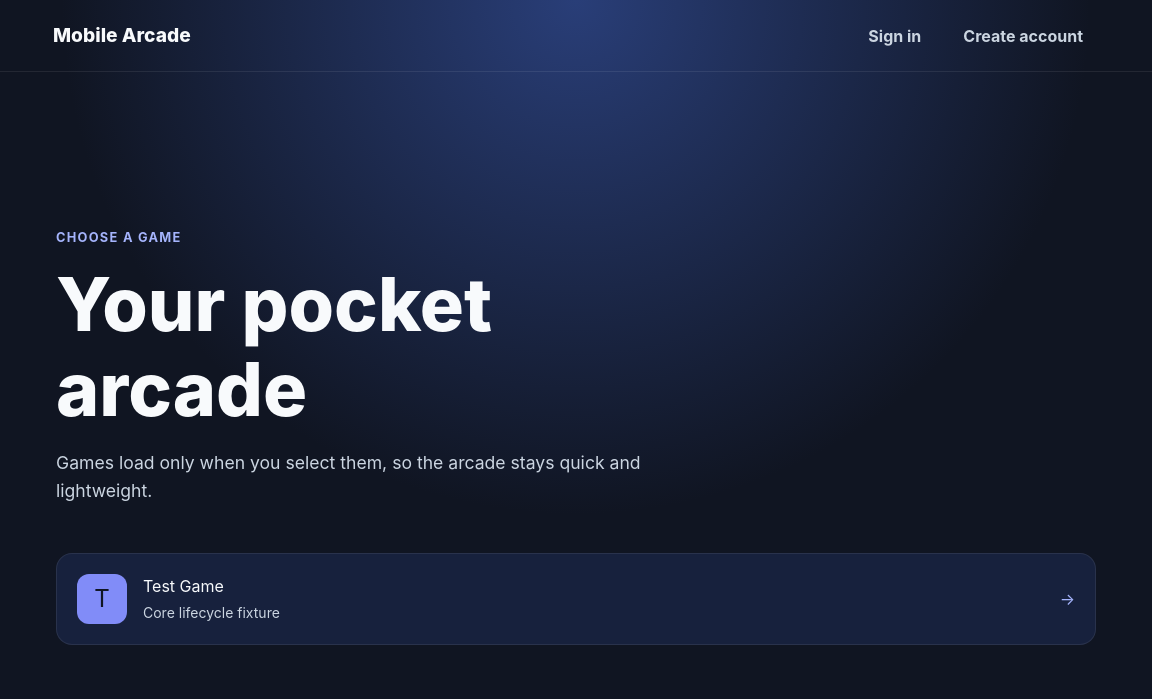
Test: ArcadeApp logout behavior › keeps authenticated UI available when logout fails
Click the button "Sign in": (895, 36) 851,14 -> 938,58
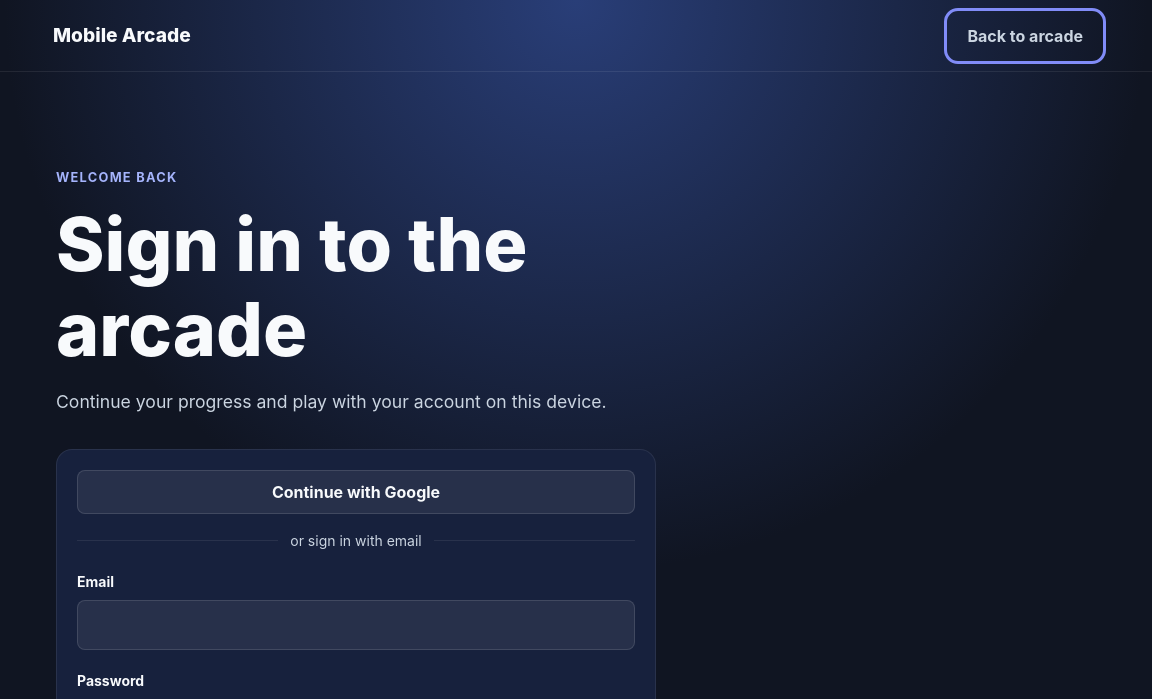
In the field labelled "Email": (356, 625) 77,600 -> 635,650, type "player@example.com"
(page scrolled)
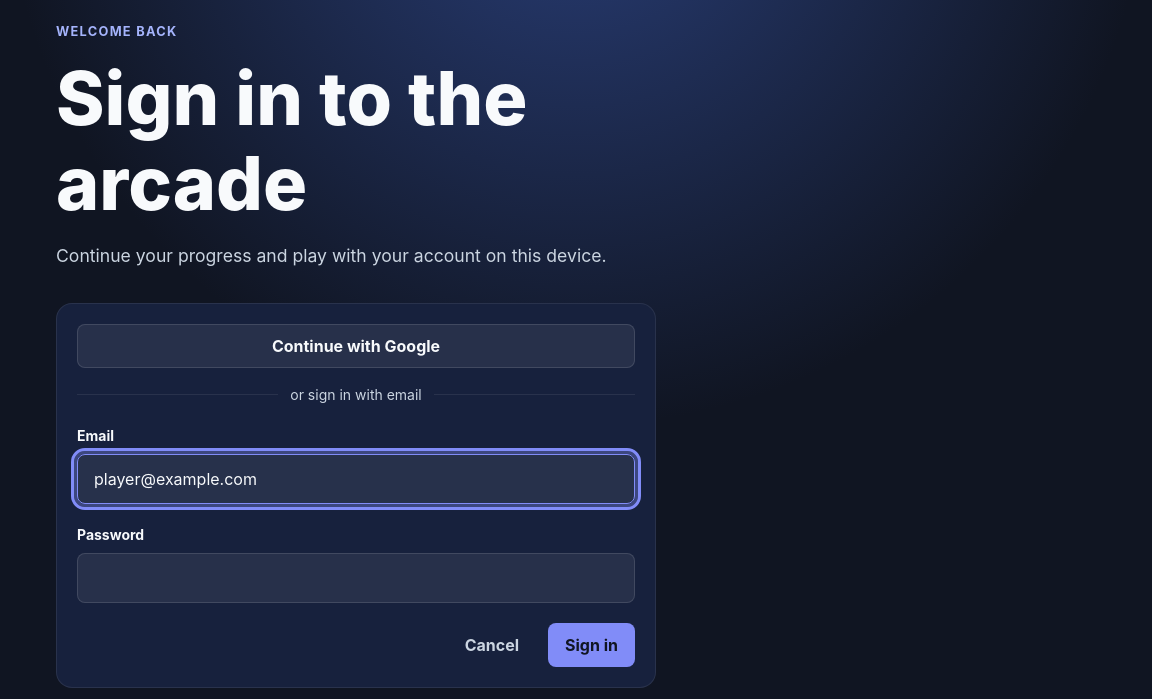
In the password field labelled "Password": (356, 578) 77,553 -> 635,603, type "safe-password"
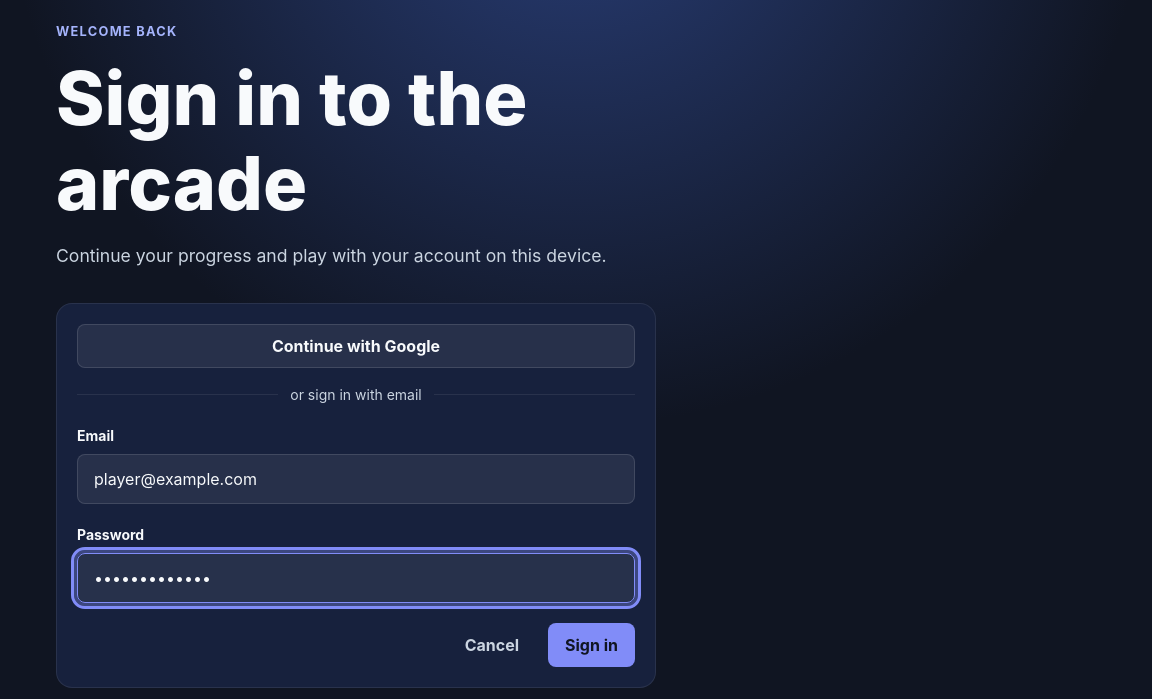
Click the button "Sign in": (592, 645) 548,623 -> 635,667
(page scrolled)
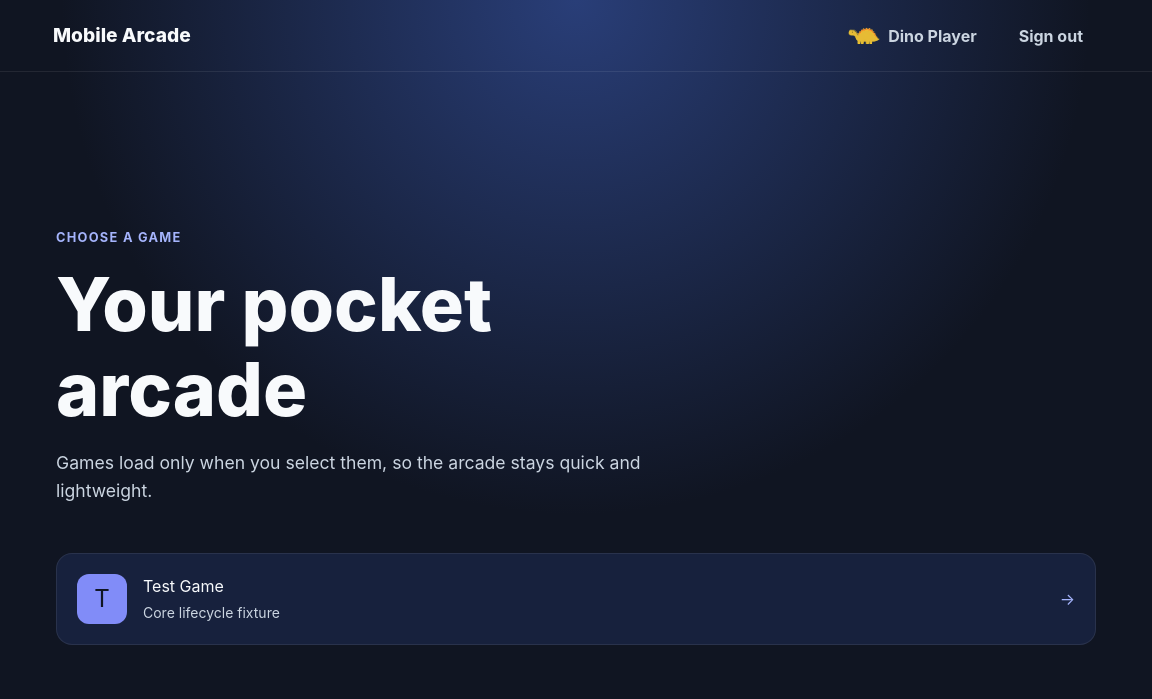
Click the button "Sign out": (1051, 36) 1002,14 -> 1100,58
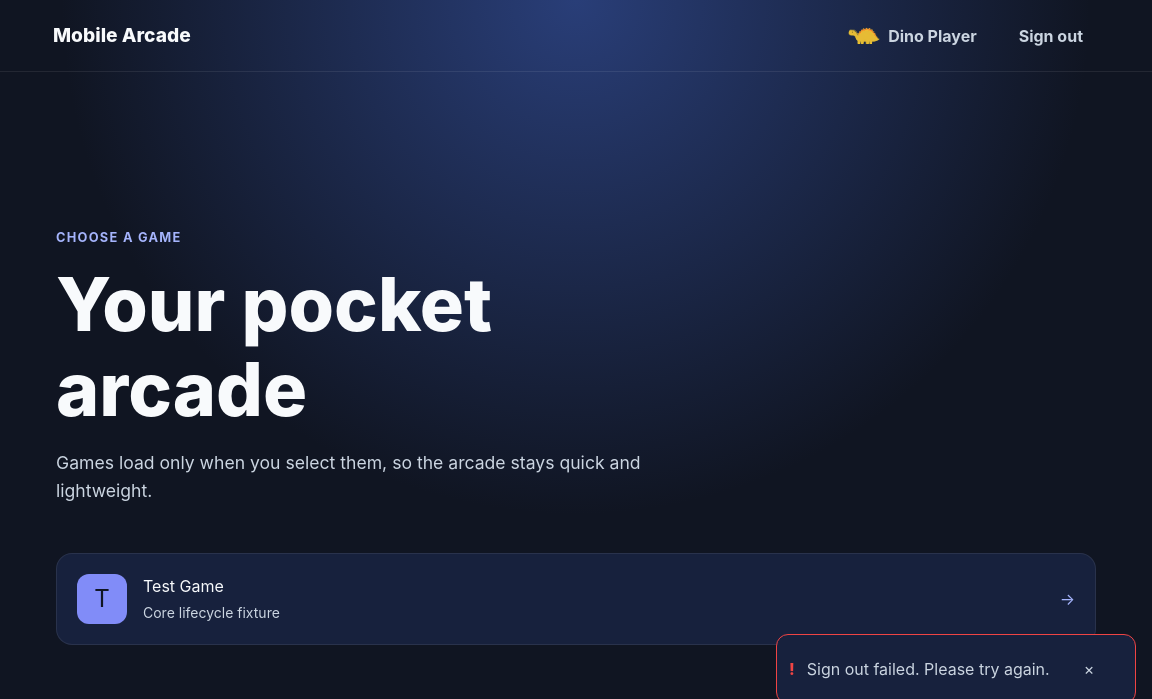
Now the message shows "Sign out failed. Please try again.", box 807,659 -> 1050,679
